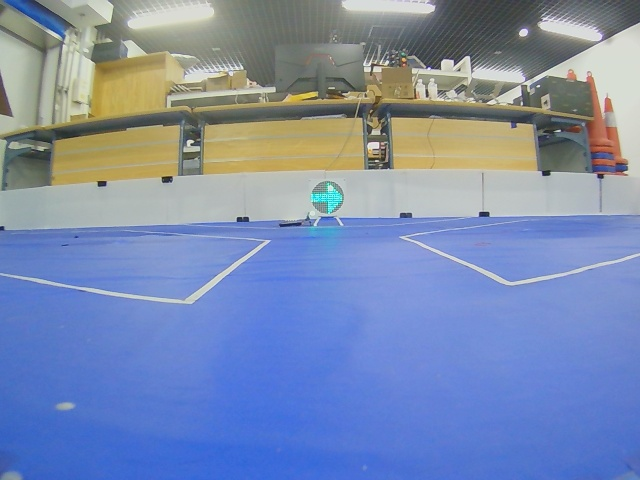right_green: (310, 181, 344, 214)
